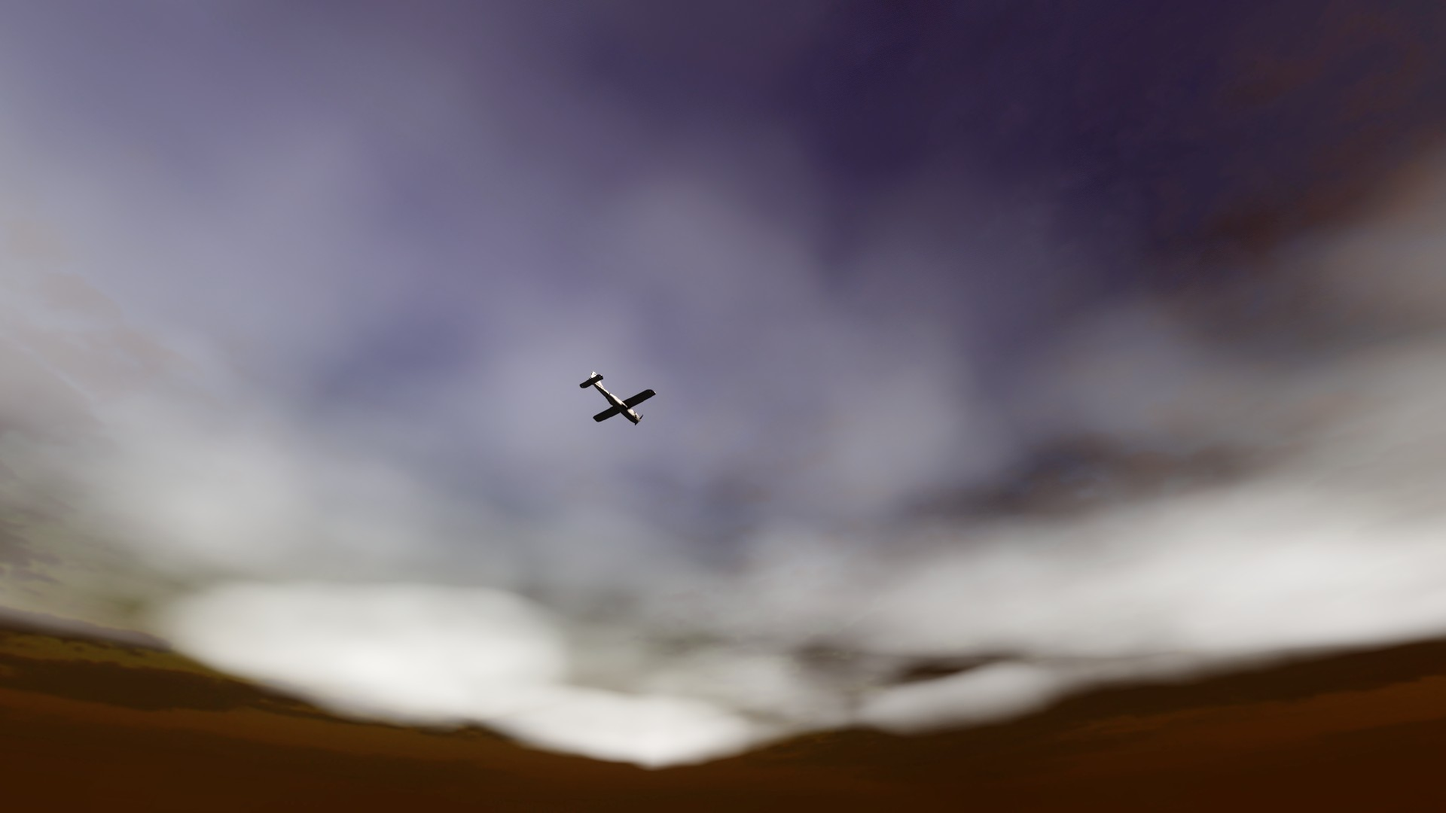drone_other: (580, 371, 656, 425)
